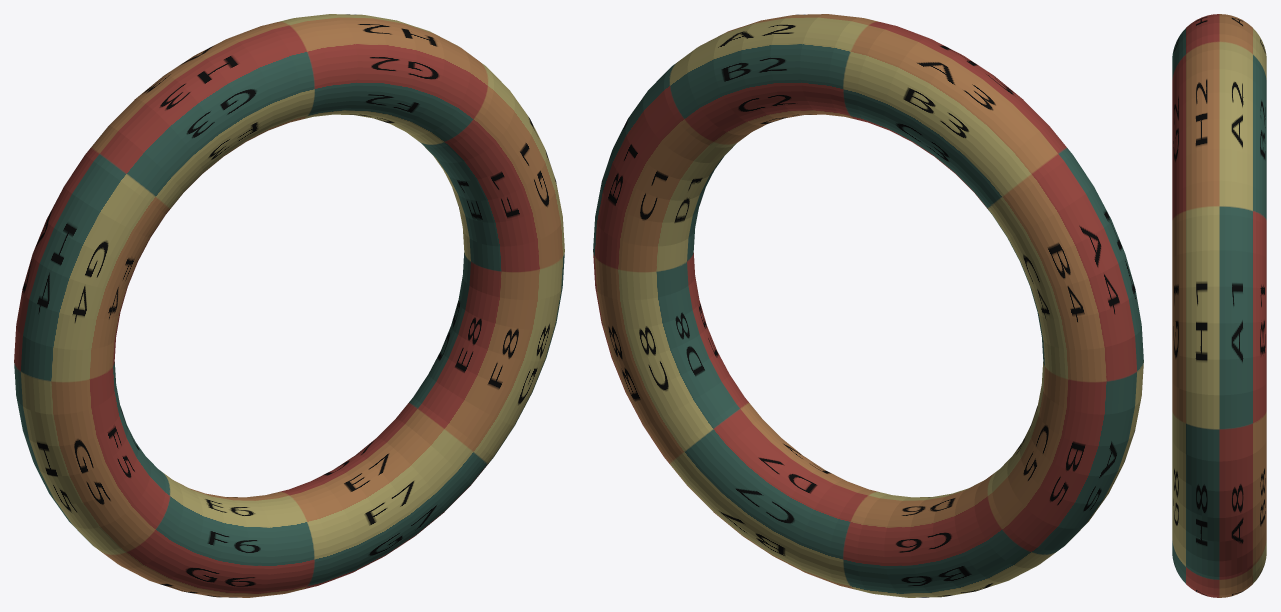
The model's file is texture_torus_R17_r8.glb.
3 renders of one model, left to right at view 1: azimuth 30°, elevation 25°; view 2: azimuth 150°, elevation 25°; view 3: azimuth 270°, elevation 25°, orthographic. The views are drawn at different scales.
Visible parts, largest first — view 1: world; view 2: world; view 3: world.
Part boxes in pixels (<box>): world: <box>14,14,564,597</box>; world: <box>593,14,1143,597</box>; world: <box>1172,14,1266,597</box>.
Bounding box in the file's own units: 25.47 × 25.42 × 4.13.
1 material, 1 textured.
